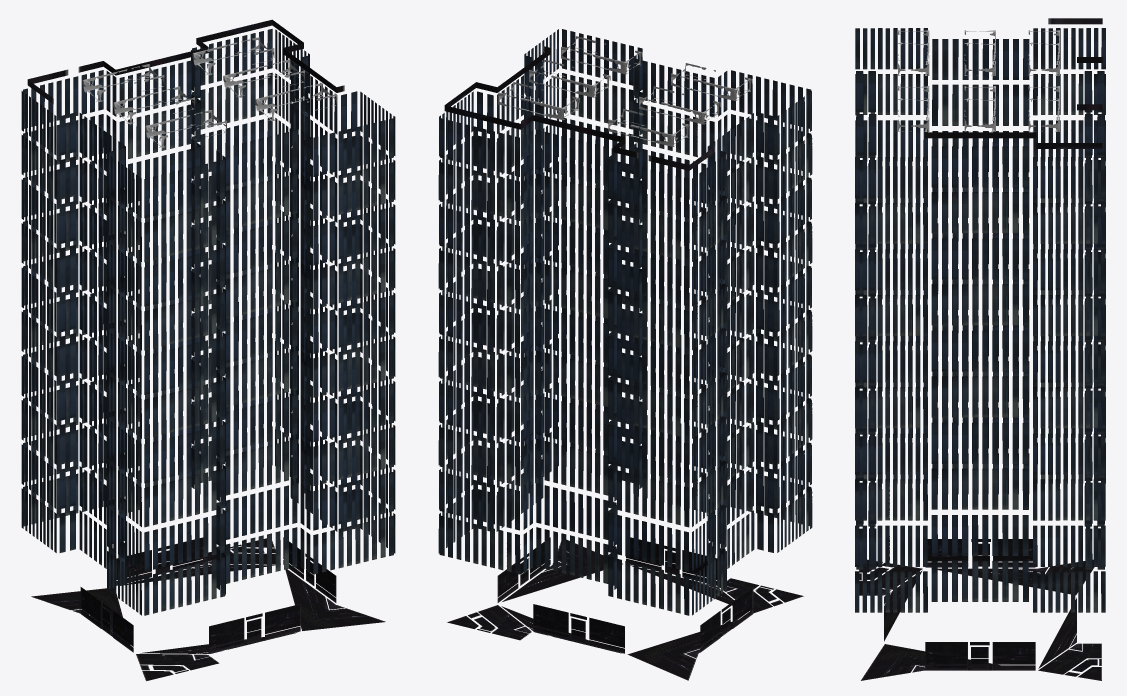
File: si_building_04.fbx
The picture shows the model from 3 angles, left to right: view 1: azimuth 30°, elevation 25°; view 2: azimuth 150°, elevation 25°; view 3: azimuth 270°, elevation 25°; orthographic projection. The views are drawn at different scales.
Visible parts, largest first — view 1: si_building_04; view 2: si_building_04; view 3: si_building_04.
Part boxes in pixels (box(x1,y1,x2,y2)): si_building_04: box(21, 19, 395, 681); si_building_04: box(438, 29, 812, 680); si_building_04: box(855, 18, 1105, 680).
Bounding box in the file's own units: 93 × 177 × 78.
1 material, 1 textured.
